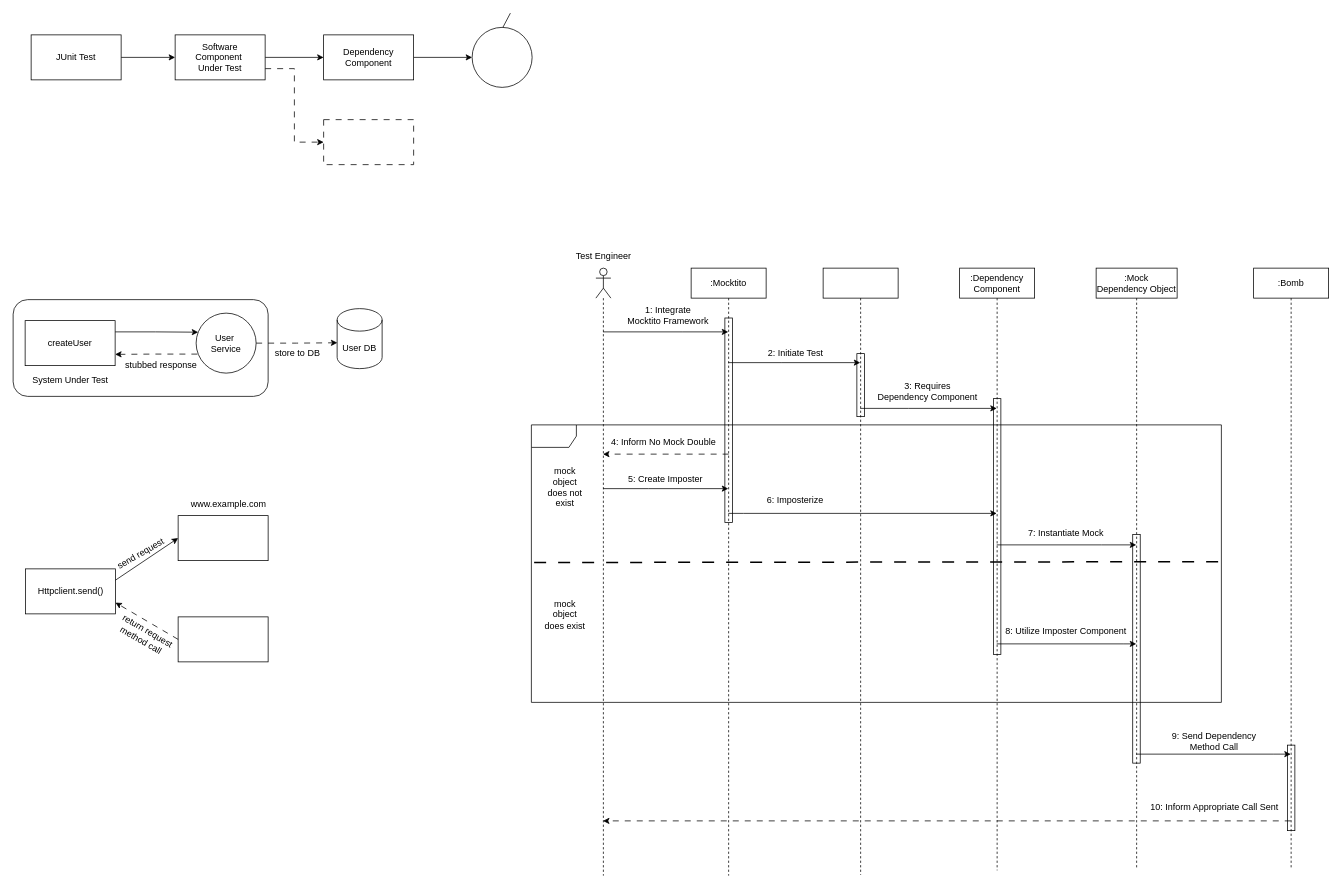
The diagram is 1342 pixels wide and 889 high, and some of its shapes have lost their labels. The box of each missing label's shape, as (x1, y1, x2, y2) in pixels:
:Software Component Under Test: (822, 267, 898, 875)
Actual Client: (177, 515, 268, 561)
alt: (531, 424, 1221, 702)
Bomb: (471, 27, 532, 87)
Double of Dependency Component: (323, 119, 414, 165)
Mock Client: (177, 616, 268, 662)
